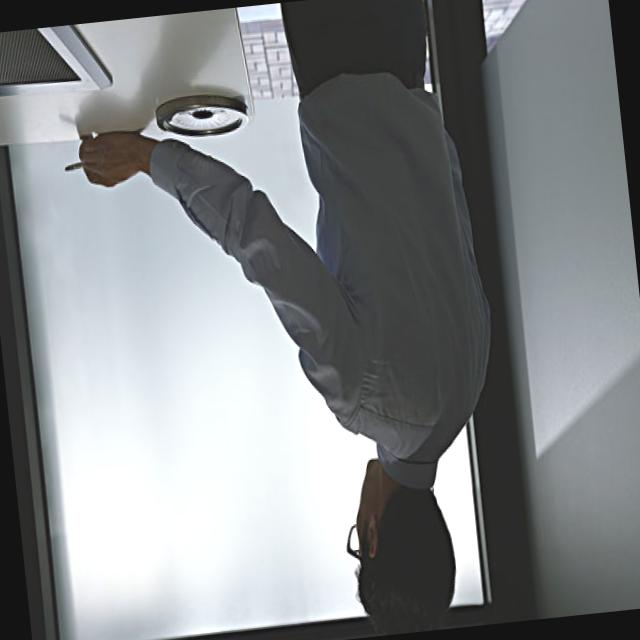smoke: (61, 158, 83, 177)
